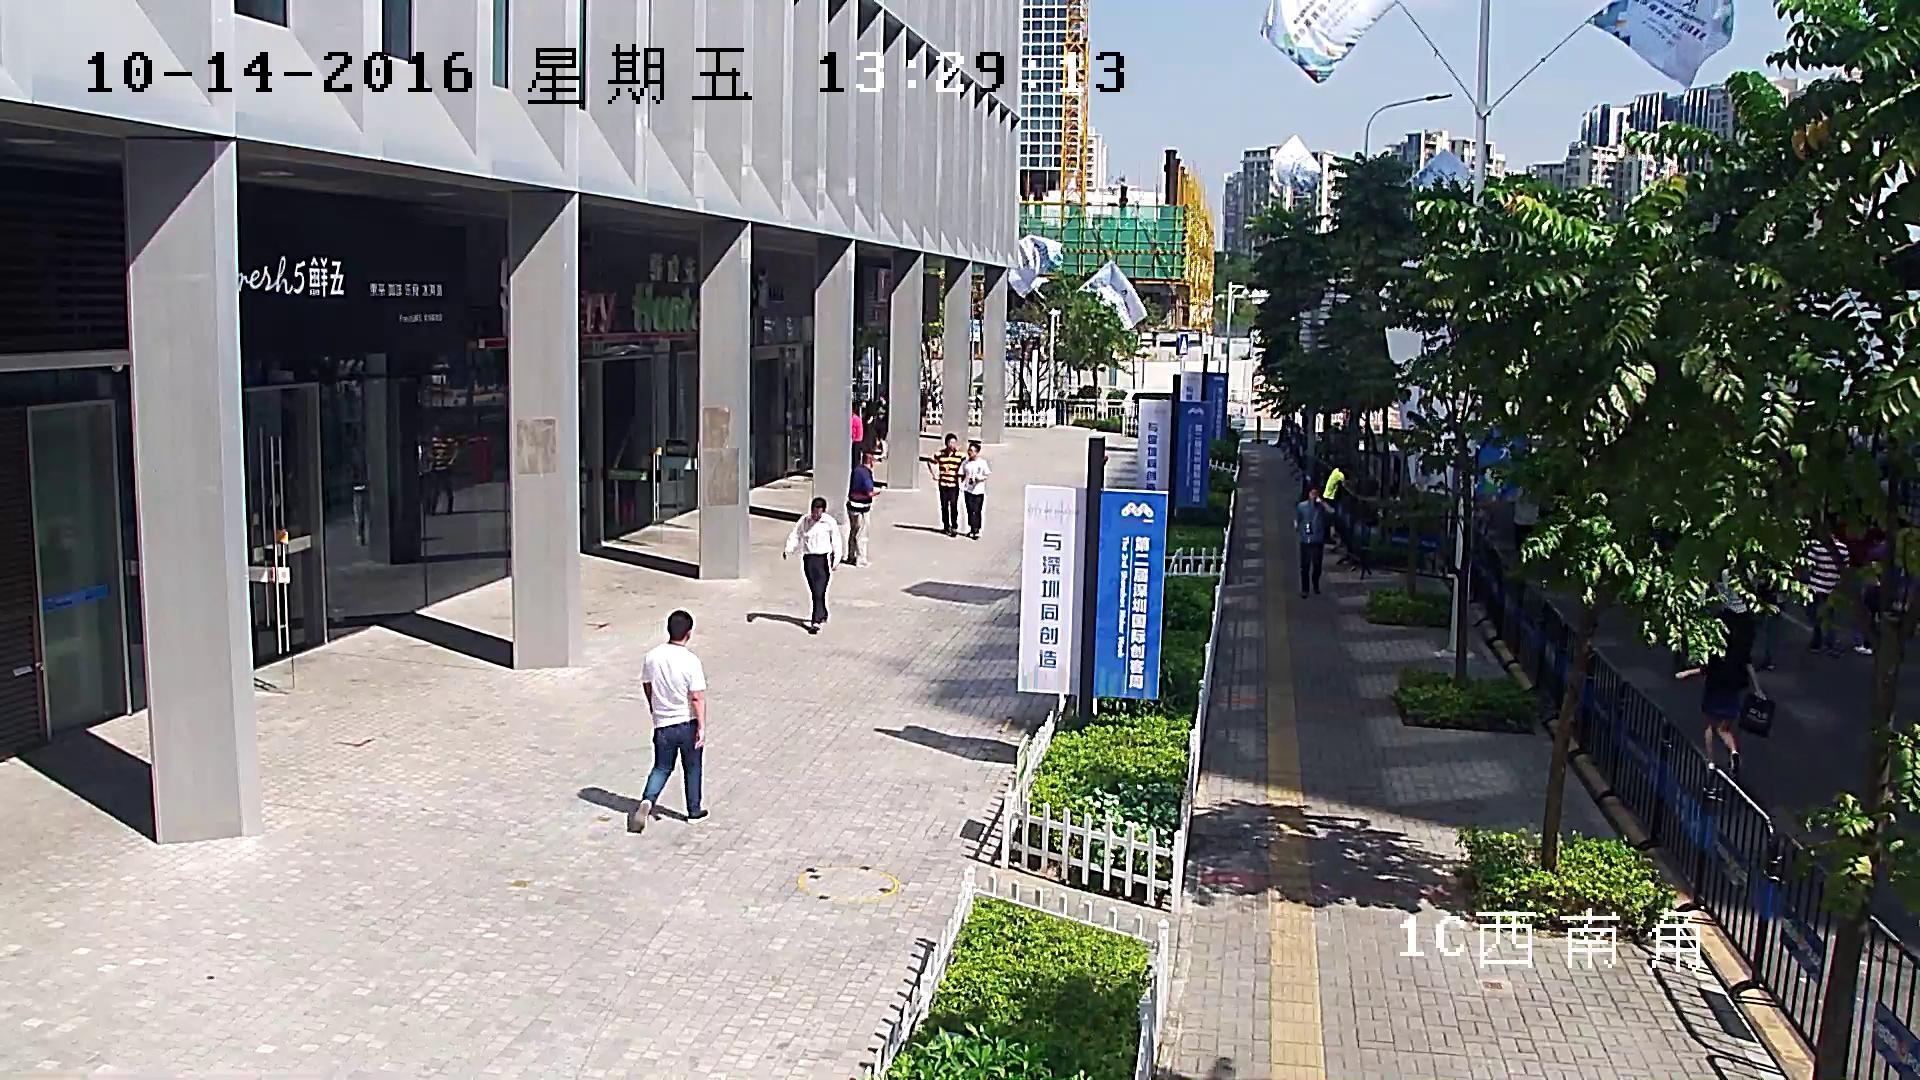person: (627, 611, 709, 835), (1676, 595, 1769, 777), (780, 496, 840, 632), (1803, 523, 1849, 658), (1291, 486, 1335, 600), (1855, 530, 1892, 658), (927, 433, 964, 538), (845, 451, 880, 565), (959, 443, 991, 538), (1322, 462, 1356, 551), (428, 424, 460, 517), (1508, 472, 1541, 551), (416, 432, 434, 512), (863, 414, 877, 468), (850, 406, 863, 470)
